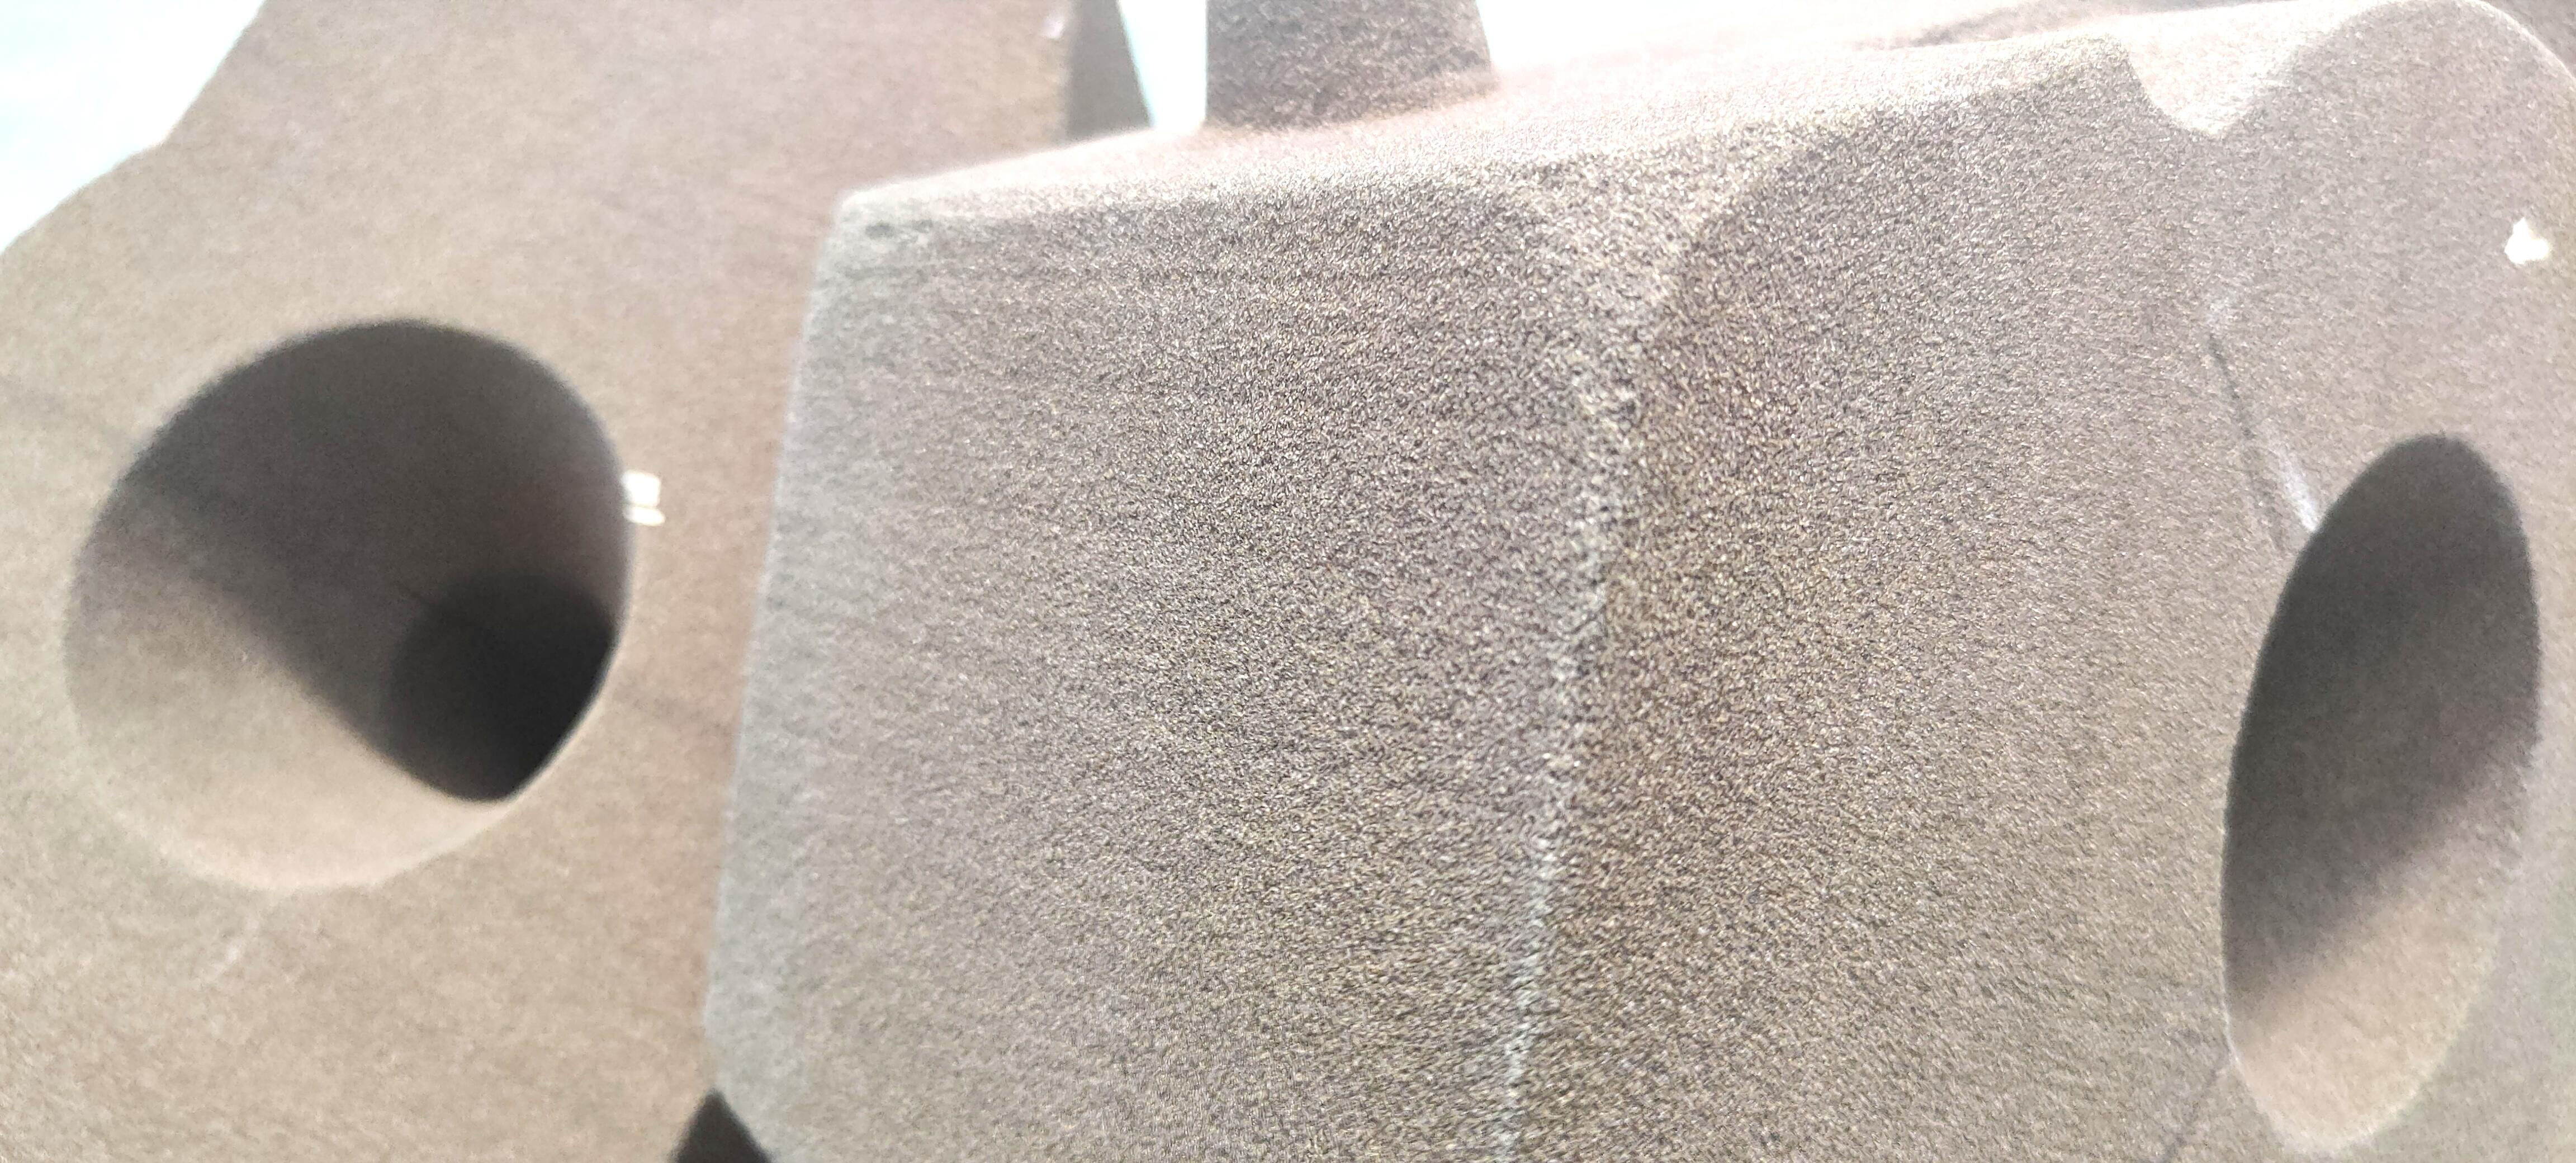pouring hole: (61, 319, 633, 890), (2229, 432, 2543, 1150)
